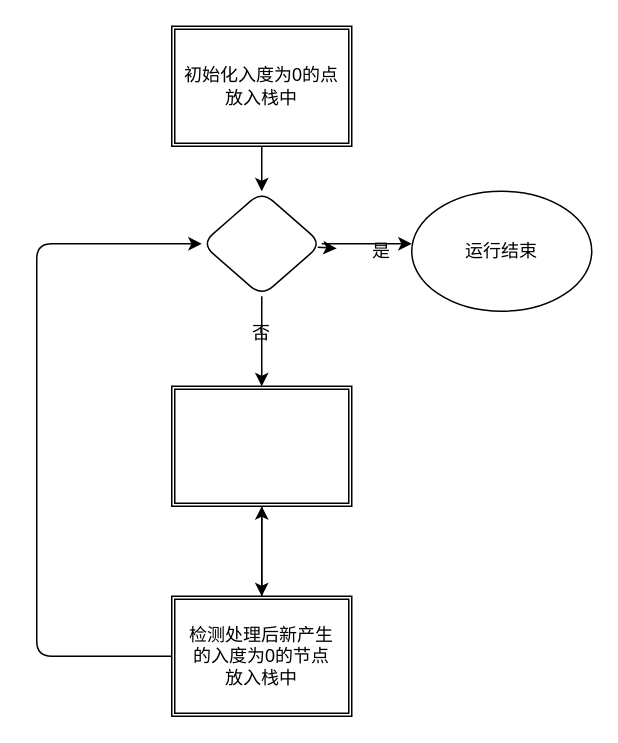
The diagram is 618 pixels wide and 743 high, and some of its shapes have lost their labels. The shapes that lost their labels are listed below. From the top down, each one's centre as x and y in pixels, then its label:
[261,243]: 栈是否 为空
[261,445]: 取出栈顶节点处理
